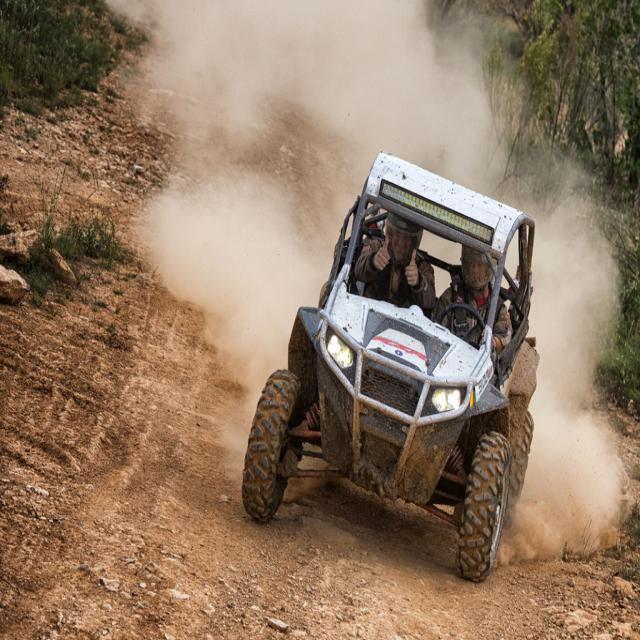other: (256, 145, 538, 604)
